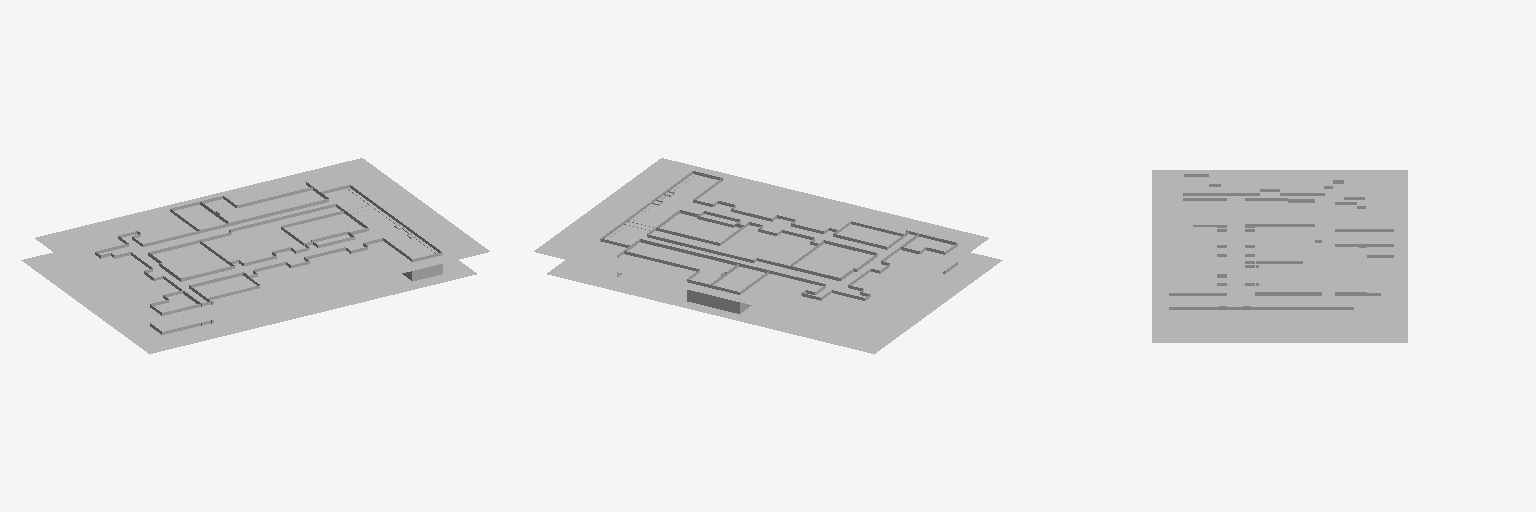
The model's file is DptLayoutWithCave.obj.
3 views of the same model, side by side, from view 1: azimuth 30°, elevation 25°; view 2: azimuth 150°, elevation 25°; view 3: azimuth 270°, elevation 25° (orthographic).
Visible parts, largest first — view 1: polySurface63; view 2: polySurface63; view 3: polySurface63.
Part boxes in pixels (x1,y1,x2,y2): polySurface63: (21,158,489,353); polySurface63: (534,158,1002,353); polySurface63: (1152,170,1407,342).
Bounding box in the file's own units: 195 × 13.77 × 127.